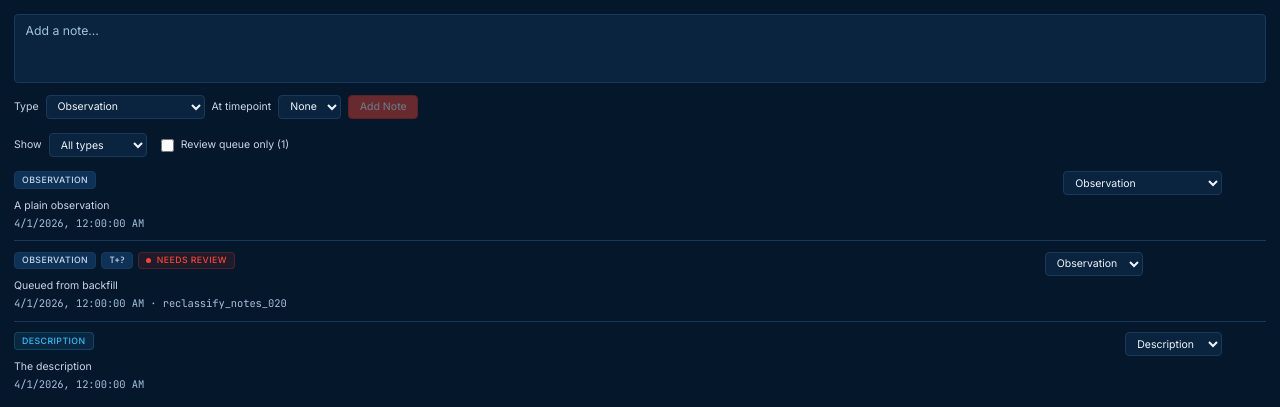
it: NotesTab — typed notes › the review filter hides resolved notes
Click the checkbox labelled "Review queue only (1)" at (167, 145), box [161,138,174,152]
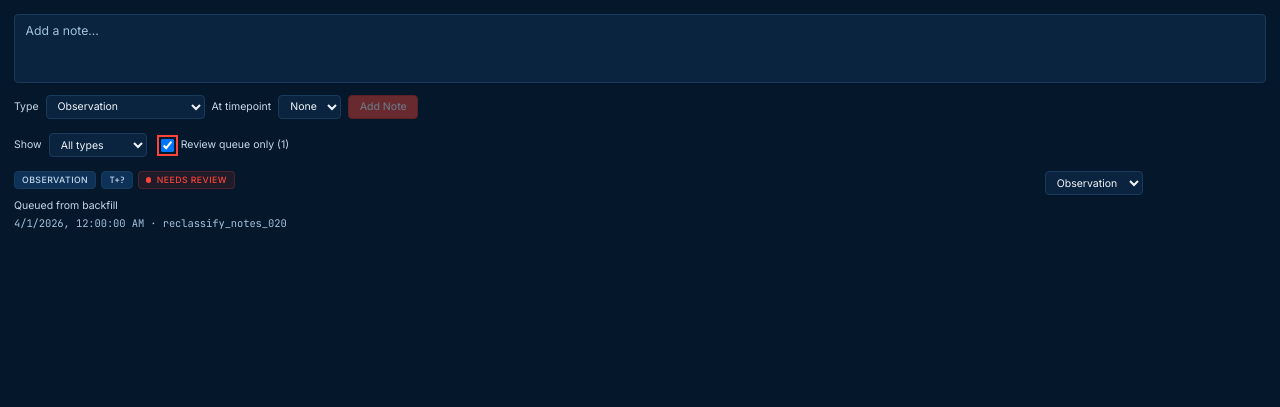
Expected: the text "Queued from backfill" is shown, [14,199,118,212]
Now the text "A plain observation" is gone
